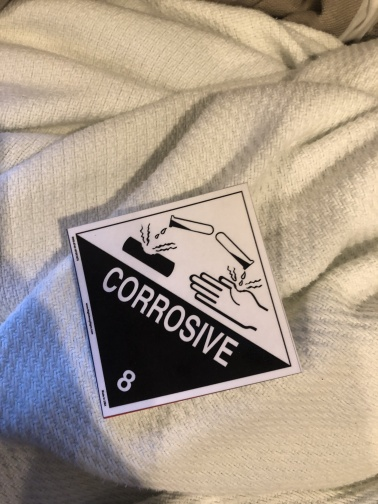Corrosive: (68, 203, 302, 407)
